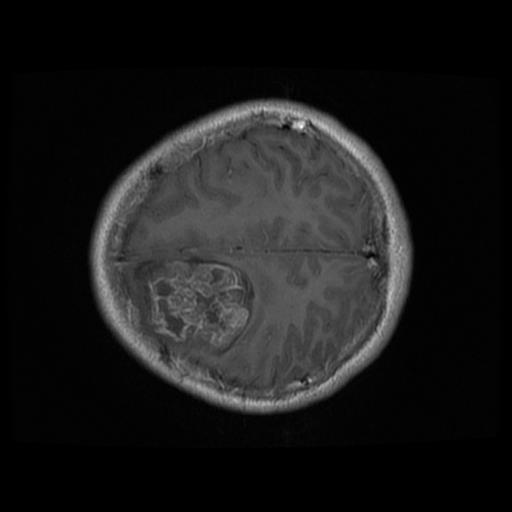glioma: (132, 257, 254, 356)
